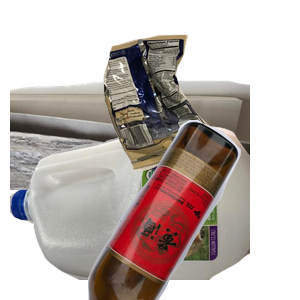glass: (85, 120, 300, 300)
paper: (10, 77, 250, 257)
plastic: (10, 120, 250, 300)
trash: (101, 32, 300, 195)
